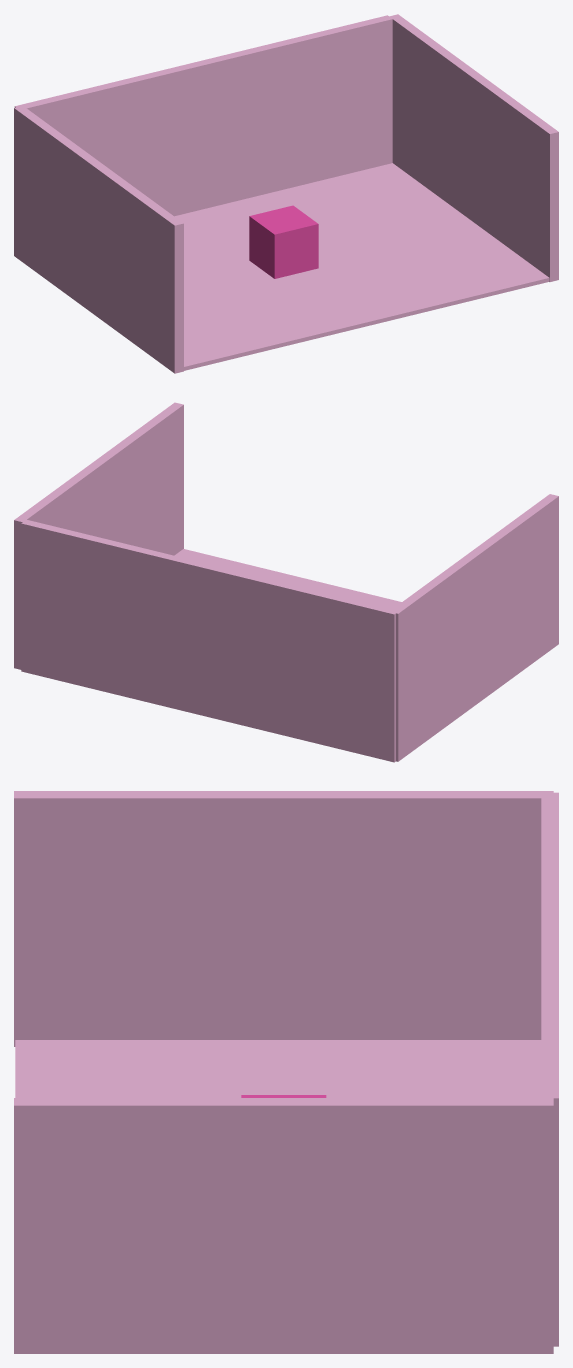
The model's file is testeJS.glb.
The picture shows the model from 3 angles, top to bottom: view 1: azimuth 30°, elevation 25°; view 2: azimuth 150°, elevation 25°; view 3: azimuth 270°, elevation 25°; orthographic projection. The views are drawn at different scales.
Visible parts, largest first — view 1: Cube.002, Cube, Cube.001, Cube.004, Cube.003; view 2: Cube.002, Cube.001, Cube.004, Cube; view 3: Cube.004, Cube.001, Cube, Cube.002.
Part boxes in pixels (x1=…): Cube.002: x1=14, y1=15, x2=392, y2=216; Cube: x1=174, y1=163, x2=549, y2=370; Cube.001: x1=14, y1=106, x2=183, y2=373; Cube.004: x1=389, y1=14, x2=558, y2=281; Cube.003: x1=249, y1=205, x2=318, y2=278; Cube.002: x1=21, y1=520, x2=398, y2=762; Cube.001: x1=389, y1=494, x2=558, y2=761; Cube.004: x1=14, y1=402, x2=183, y2=669; Cube: x1=174, y1=549, x2=401, y2=608; Cube.004: x1=14, y1=1098, x2=553, y2=1353; Cube.001: x1=14, y1=791, x2=553, y2=1046; Cube: x1=15, y1=1040, x2=541, y2=1097; Cube.002: x1=541, y1=792, x2=558, y2=1346.
Bounding box in the file's own units: 17.51 × 6.45 × 12.82.
